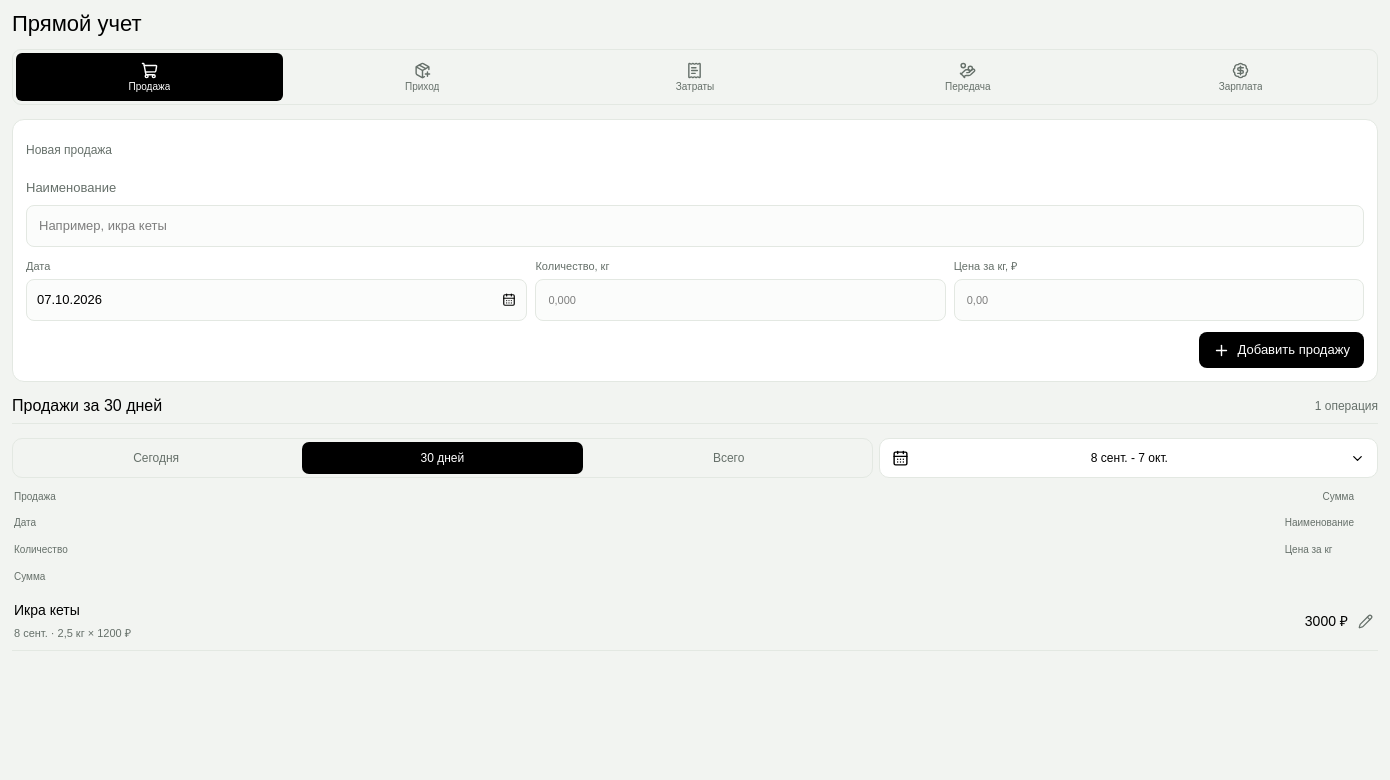
Scenario: DirectAccountingHome › filters the ledger and names it by the selected operation type
Expected: the text "Продажи за 30 дней" is shown, [12,397,162,414]
Expected: the text "1 операция" is shown, [1315,397,1378,415]
Click the button "Приход".
click(422, 77)  # box [289,53,556,101]
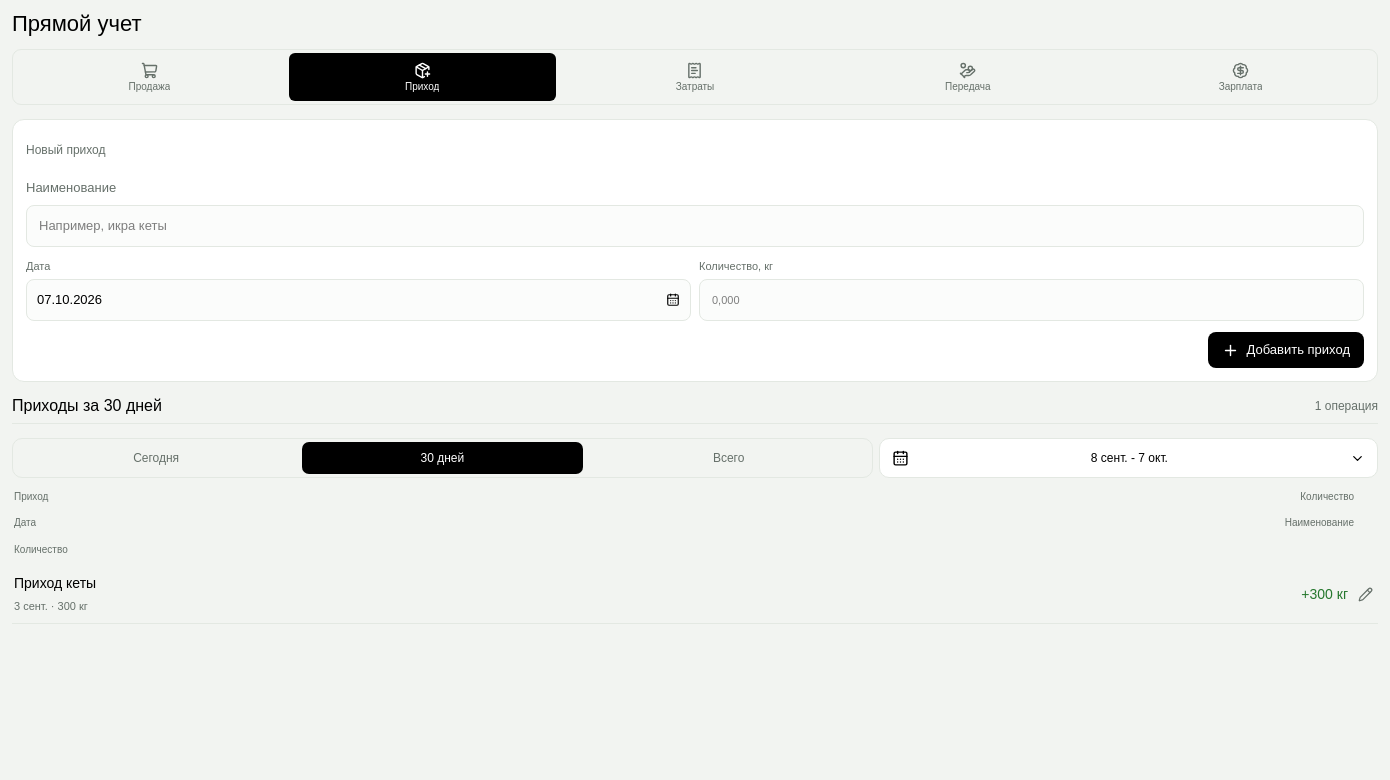
Now the text "Приходы за 30 дней" is shown, box [12,397,162,414]
Now the heading "Новый приход" is shown, box [26,141,106,159]
Now the text "Приход кеты" is shown, box [14,575,96,591]
Click the button "Затраты".
click(695, 77)  # box [562,53,828,101]
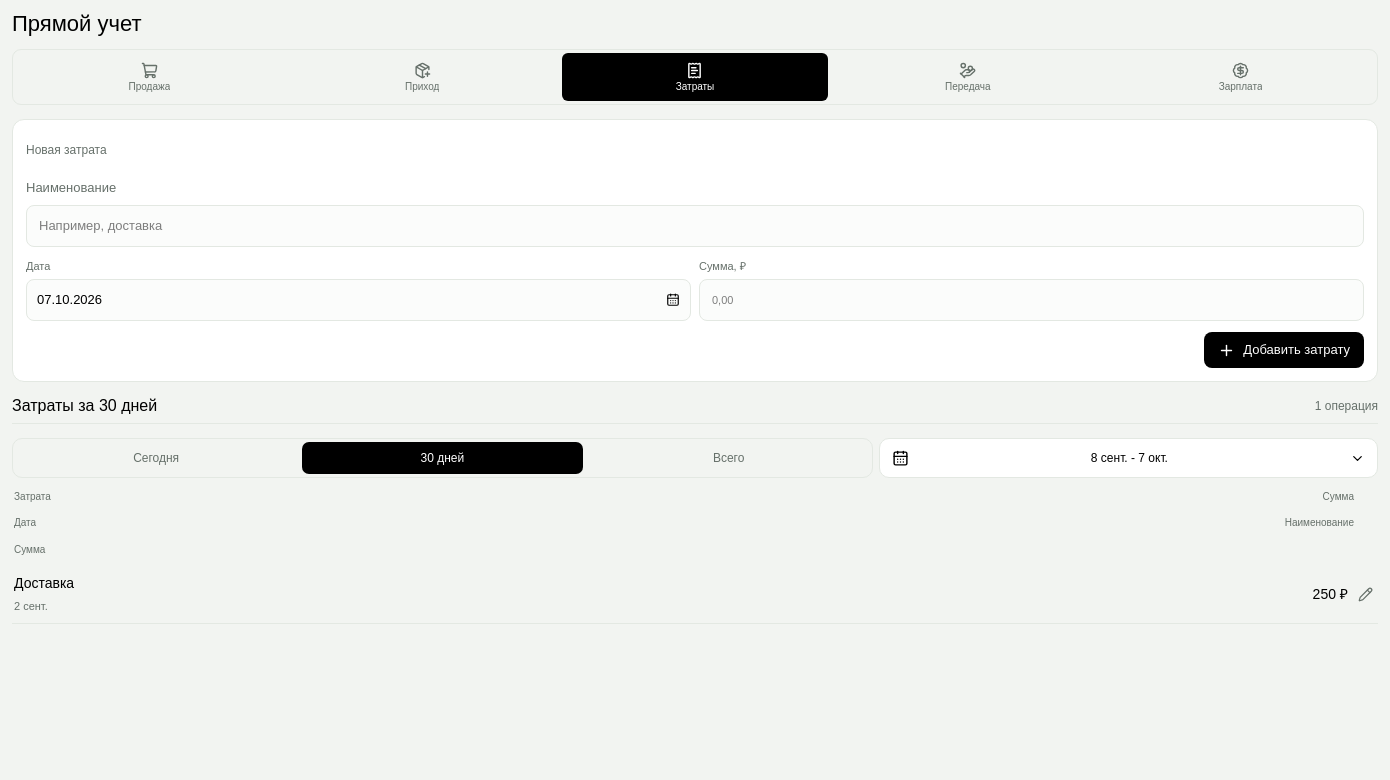
Now the text "Затраты за 30 дней" is shown, box [12,397,157,414]
Now the heading "Новая затрата" is shown, box [26,141,107,159]
Now the text "Доставка" is shown, box [14,575,74,591]
Click the button "Зарплата".
click(1241, 77)  # box [1107,53,1374,101]
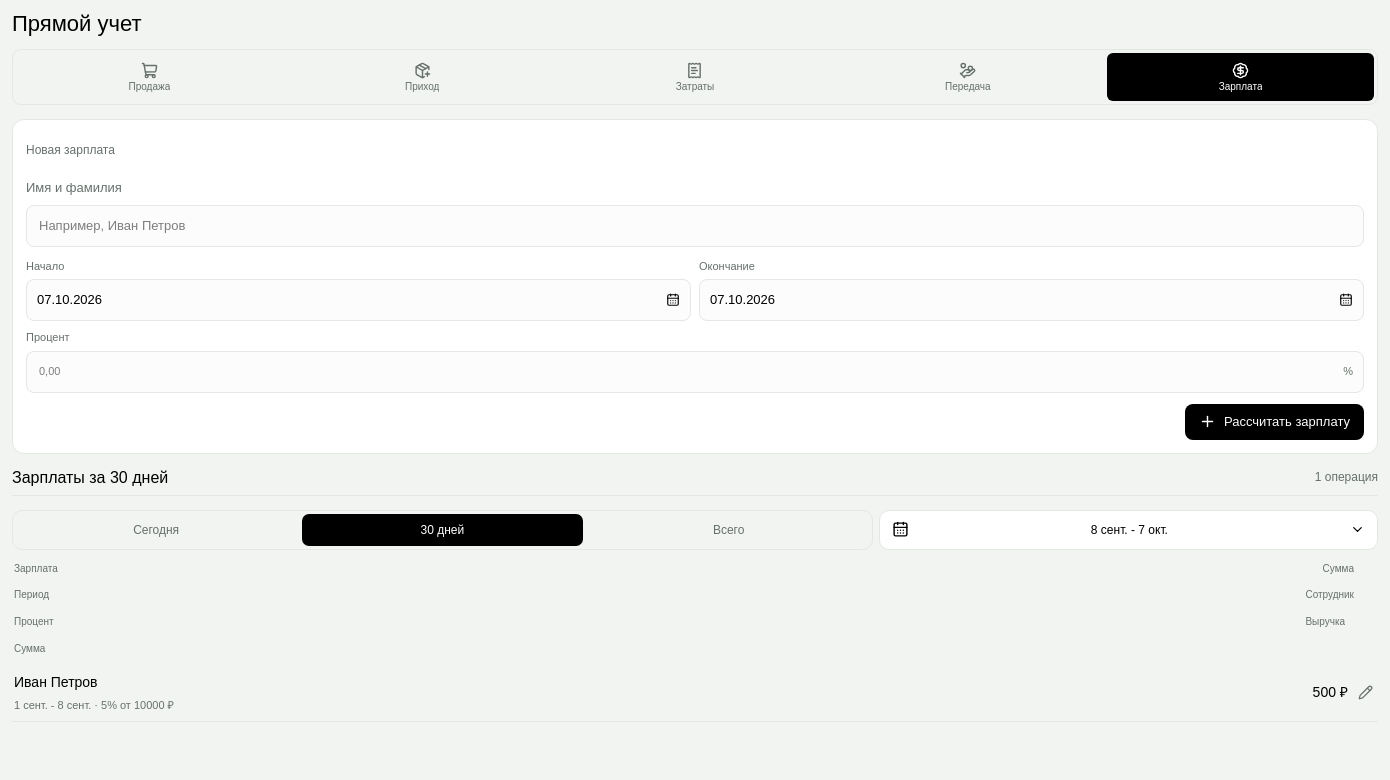
Now the text "Зарплаты за 30 дней" is shown, box [12,469,168,486]
Now the heading "Новая зарплата" is shown, box [26,141,115,159]
Now the text "Иван Петров" is shown, box [14,674,98,690]
Click the button "Передача".
click(968, 77)  # box [834,53,1101,101]
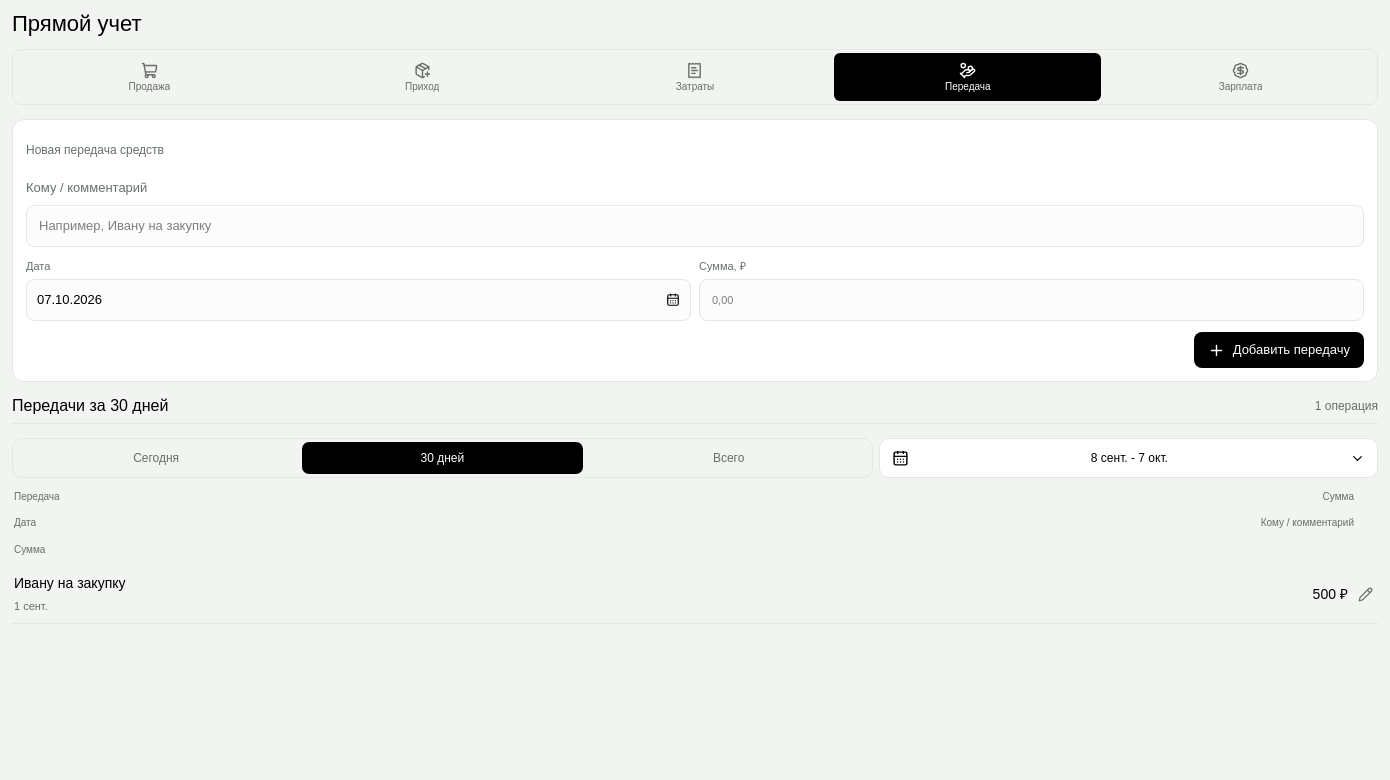
Now the text "Передачи за 30 дней" is shown, box [12,397,168,414]
Now the heading "Новая передача средств" is shown, box [26,141,164,159]
Now the text "Ивану на закупку" is shown, box [14,575,126,591]
